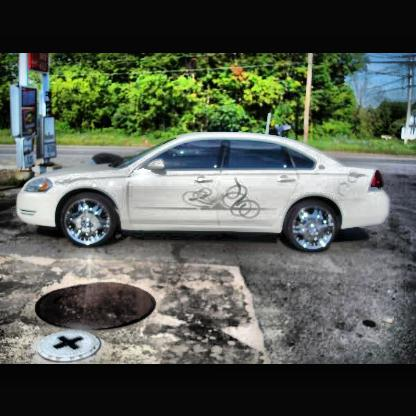Chevrolet Impala Sedan 2007: (19, 134, 390, 252)
